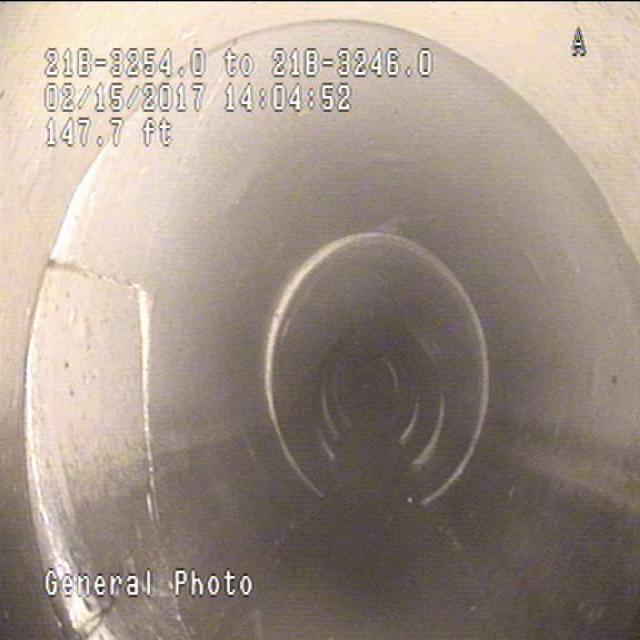Fracture: (49, 212, 190, 511)
